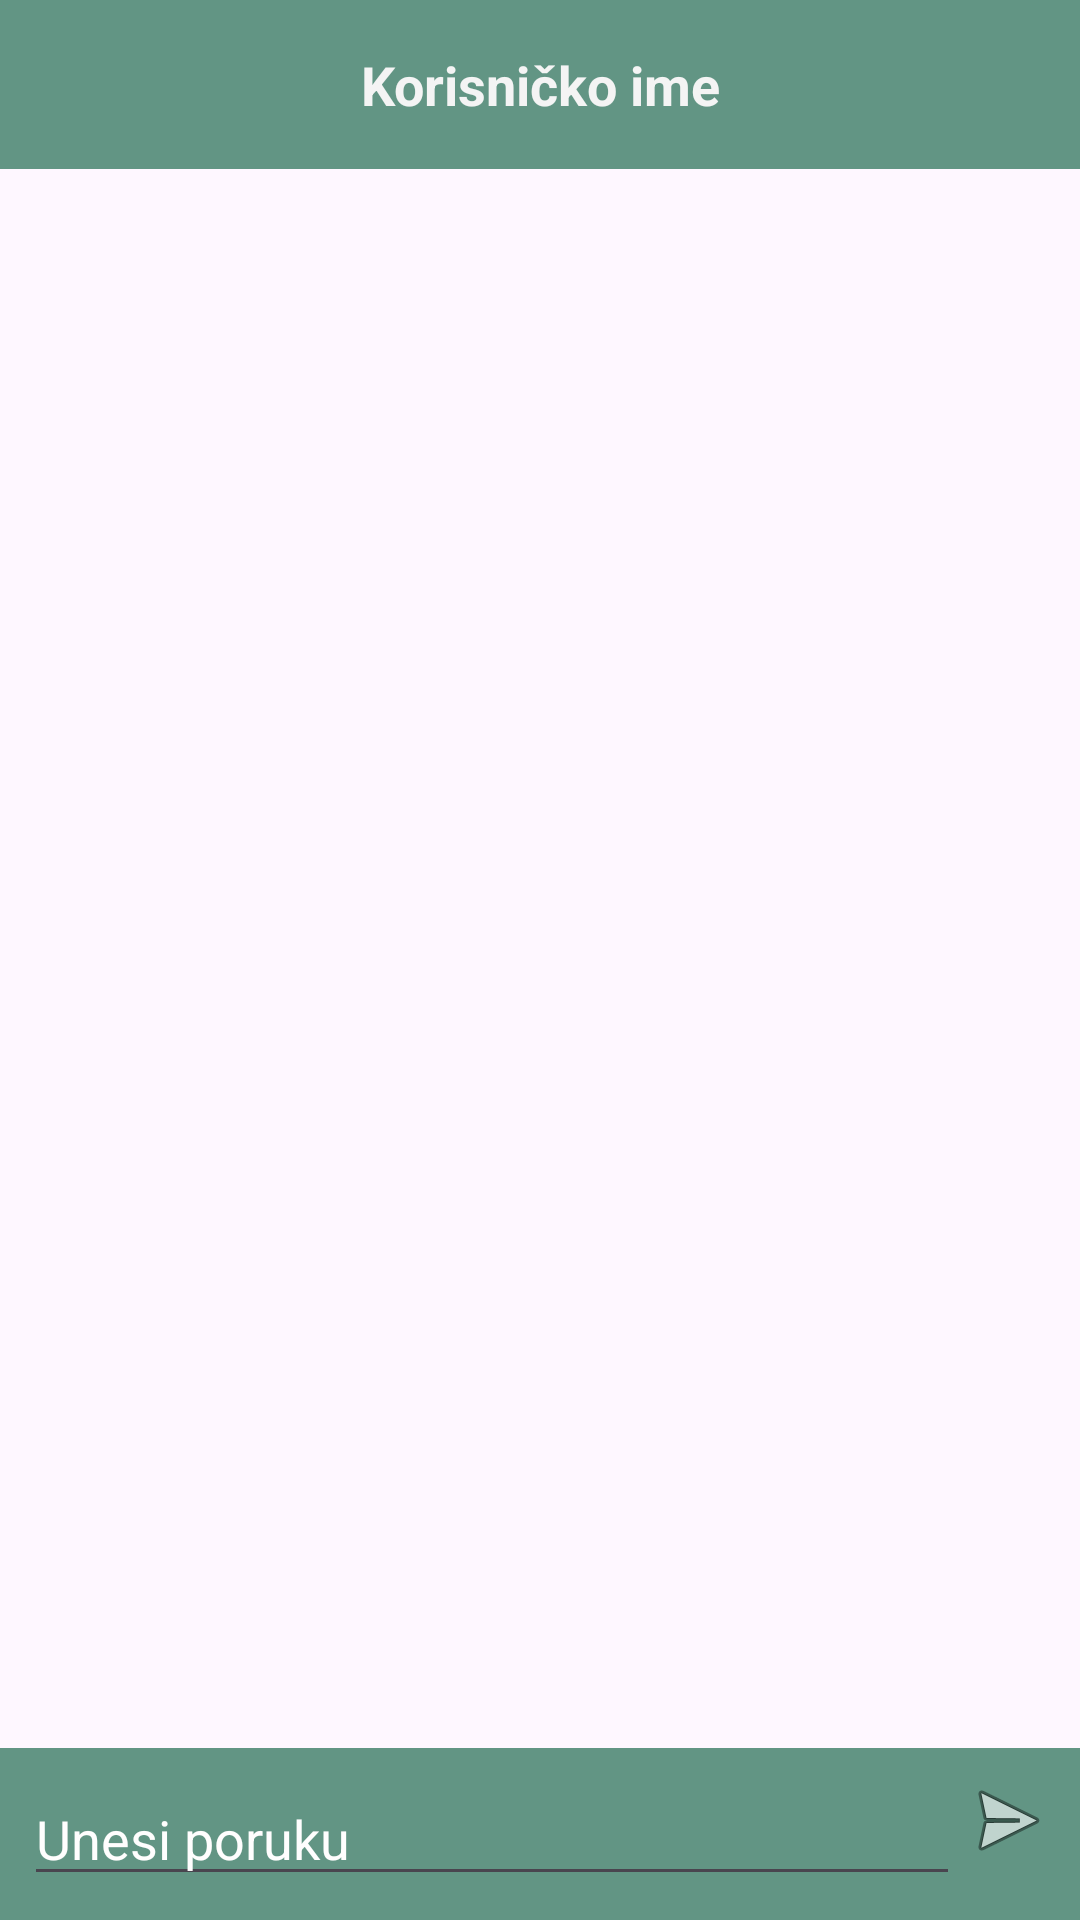

Point at icon controls on the screen. Image size 1080px x 1920px, points as (x=x, y=y).
Pošalji: (x=1008, y=1820)
